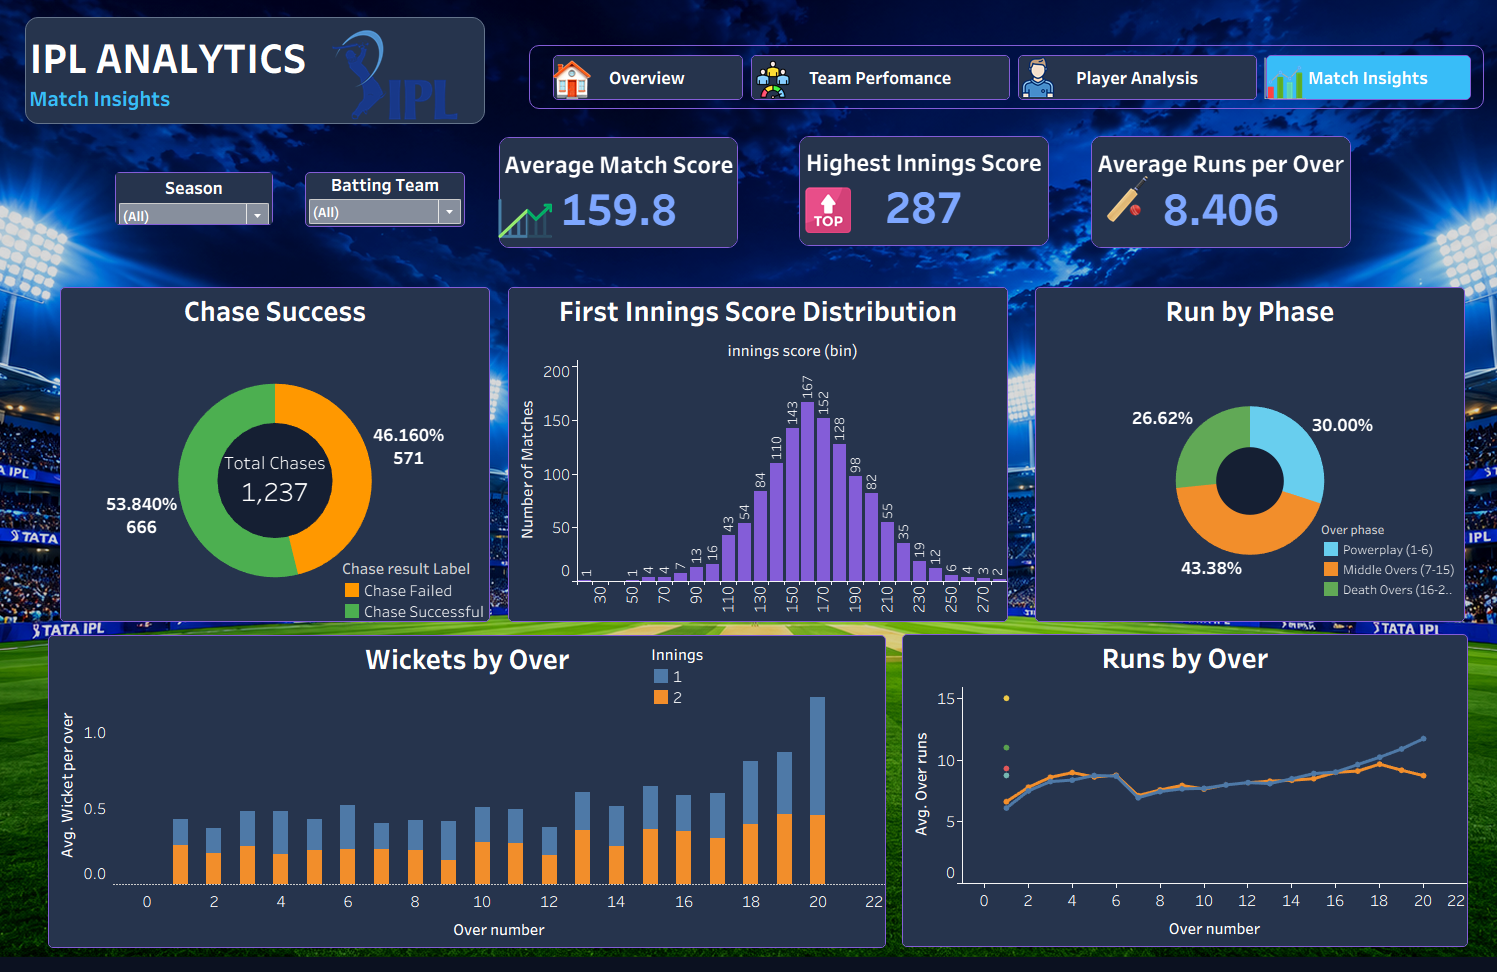

What the dashboard file says about the page in this screenshot:
{"tool":"tableau","page":{"name":"Match Insights","canvas":[1500,960],"ordinal":3},"visuals":[{"type":"image","param":"Image/ipl_stadium_background_1500x960.png","box":[0,0,1500,960]},{"type":"text","box":[26,20,460,107]},{"type":"image","param":"Image/new.png","box":[331,31,167,92]},{"type":"blank","box":[530,48,955,64]},{"type":"dashboard-object","box":[554,58,190,45]},{"type":"dashboard-object","box":[752,58,259,45]},{"type":"dashboard-object","box":[1019,58,239,45]},{"type":"dashboard-object","box":[1267,58,205,45]},{"type":"image","param":"Image/palyer-removebg-preview.png","box":[1018,59,41,46]},{"type":"image","param":"Image/overview-removebg-preview.png","box":[550,60,51,45]},{"type":"image","param":"Image/match_insights-removebg-preview.png","box":[1265,60,43,42]},{"type":"image","param":"Image/team_per-removebg-preview.png","box":[754,63,52,39]},{"type":"worksheet","title":"kpi2","mark":"Automatic","box":[800,139,250,110]},{"type":"worksheet","title":"kpi3","mark":"Automatic","box":[1092,139,260,112]},{"type":"worksheet","title":"kpi1","mark":"Automatic","box":[500,140,239,111]},{"type":"image","param":"Image/bat-removebg-preview.png","box":[1088,171,81,101]},{"type":"filter","title":"Wickets by Over","param":"[federated.11lt0wj1xww80l173m1cm0uaoaj8].[yr:date:ok]","box":[116,175,158,53]},{"type":"filter","title":"Sheet 43","param":"[federated.11lt0wj1xww80l173m1cm0uaoaj8].[Batting Team (group)]","box":[306,175,160,55]},{"type":"image","param":"Image/high.png","box":[806,190,48,46]},{"type":"image","param":"Image/avg-removebg-preview (1).png","box":[499,194,60,54]},{"type":"worksheet","title":"Chase Success","mark":"Pie","cols":["Calculation_2357936140656667","Calculation_2357936140689437"],"box":[61,290,430,335]},{"type":"worksheet","title":"1st innings score","mark":"Bar","rows":["match_id"],"cols":["innings score (bin)"],"box":[509,290,500,335]},{"type":"worksheet","title":"Run by Phase","mark":"Pie","cols":["Calculation_2357934911348749","Calculation_2357934911410191"],"box":[1036,290,430,335]},{"type":"worksheet","title":"Sheet 43","mark":"Automatic","box":[864,472,57,43]},{"type":"legend","title":"Run by Phase","param":"[federated.11lt0wj1xww80l173m1cm0uaoaj8].[none:Calculation_2357934903578630:nk]","box":[1322,524,139,93]},{"type":"legend","title":"Chase Success","param":"[federated.11lt0wj1xww80l173m1cm0uaoaj8].[none:Calculation_0541290862383104:nk]","box":[343,561,203,64]},{"type":"worksheet","title":"Runs by Over","mark":"Line","rows":["Calculation_2357935962152980"],"cols":["Calculation_2357935959420947"],"box":[903,637,566,313]},{"type":"worksheet","title":"Wickets by Over","mark":"Bar","rows":["Calculation_2357935581433873"],"cols":["Calculation_2357935959420947"],"box":[49.3,638,837.8,313]},{"type":"legend","title":"Wickets by Over","param":"[federated.11lt0wj1xww80l173m1cm0uaoaj8].[none:innings:ok]","box":[652.3,647,138.2,64]}]}

Visuals, with their boxes in screenshot pixels (x1, y1, x2, y2), scaled from the page's 1500x960 canvas onto the 1497x972 screenshot:
image: {"left": 0, "top": 0, "right": 1496, "bottom": 971}
text: {"left": 26, "top": 20, "right": 485, "bottom": 129}
image: {"left": 330, "top": 31, "right": 497, "bottom": 125}
blank: {"left": 529, "top": 49, "right": 1482, "bottom": 113}
dashboard-object: {"left": 553, "top": 59, "right": 743, "bottom": 104}
dashboard-object: {"left": 750, "top": 59, "right": 1009, "bottom": 104}
dashboard-object: {"left": 1017, "top": 59, "right": 1255, "bottom": 104}
dashboard-object: {"left": 1264, "top": 59, "right": 1469, "bottom": 104}
image: {"left": 1016, "top": 60, "right": 1057, "bottom": 106}
image: {"left": 549, "top": 61, "right": 600, "bottom": 106}
image: {"left": 1262, "top": 61, "right": 1305, "bottom": 103}
image: {"left": 752, "top": 64, "right": 804, "bottom": 103}
"kpi2" worksheet: {"left": 798, "top": 141, "right": 1048, "bottom": 252}
"kpi3" worksheet: {"left": 1090, "top": 141, "right": 1349, "bottom": 254}
"kpi1" worksheet: {"left": 499, "top": 142, "right": 738, "bottom": 254}
image: {"left": 1086, "top": 173, "right": 1167, "bottom": 275}
"Wickets by Over" filter: {"left": 116, "top": 177, "right": 273, "bottom": 231}
"Sheet 43" filter: {"left": 305, "top": 177, "right": 465, "bottom": 233}
image: {"left": 804, "top": 192, "right": 852, "bottom": 239}
image: {"left": 498, "top": 196, "right": 558, "bottom": 251}
"Chase Success" worksheet (Pie marks): {"left": 61, "top": 294, "right": 490, "bottom": 633}
"1st innings score" worksheet (Bar marks): {"left": 508, "top": 294, "right": 1007, "bottom": 633}
"Run by Phase" worksheet (Pie marks): {"left": 1034, "top": 294, "right": 1463, "bottom": 633}
"Sheet 43" worksheet: {"left": 862, "top": 478, "right": 919, "bottom": 521}
"Run by Phase" legend: {"left": 1319, "top": 531, "right": 1458, "bottom": 625}
"Chase Success" legend: {"left": 342, "top": 568, "right": 545, "bottom": 633}
"Runs by Over" worksheet (Line marks): {"left": 901, "top": 645, "right": 1466, "bottom": 962}
"Wickets by Over" worksheet (Bar marks): {"left": 49, "top": 646, "right": 885, "bottom": 963}
"Wickets by Over" legend: {"left": 651, "top": 655, "right": 789, "bottom": 720}
